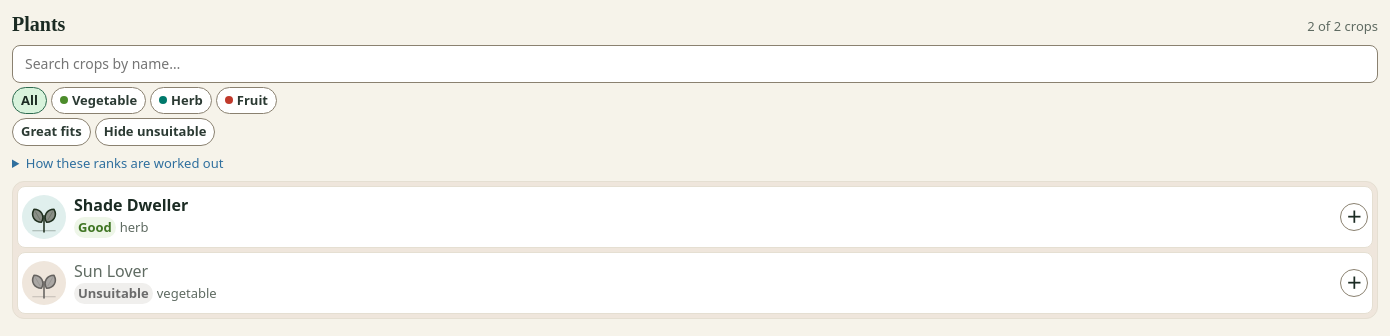
Test: PlantPalette › hides unsuitable crops once the toggle is checked, and shows them again once unchecked
Check: the text "Sun Lover" is shown, box [74,260,148,282]
Click the checkbox labelled "Hide unsuitable": (155, 132) [95,118,215,146]
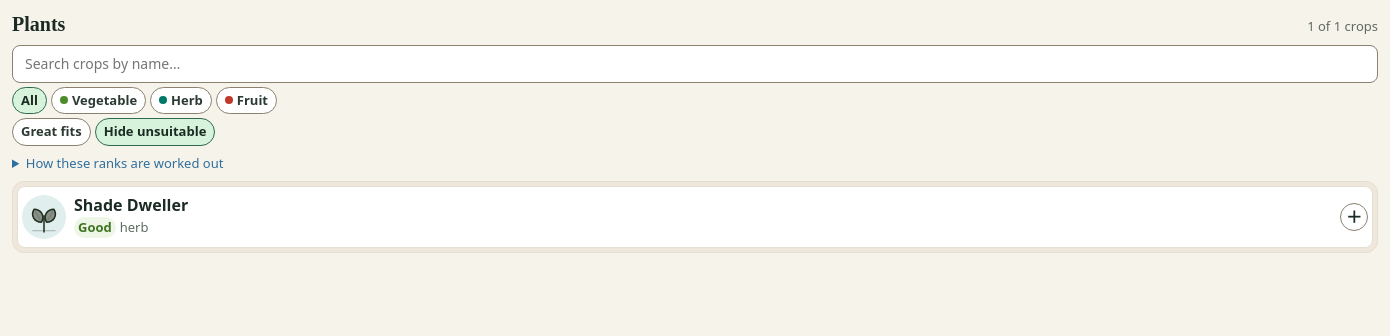
Check: the text "Shade Dweller" is shown, box [74,196,188,215]
Check: the button "Sun Lover" is gone
Click the checkbox labelled "Hide unsuitable": (155, 132) [95,118,215,146]
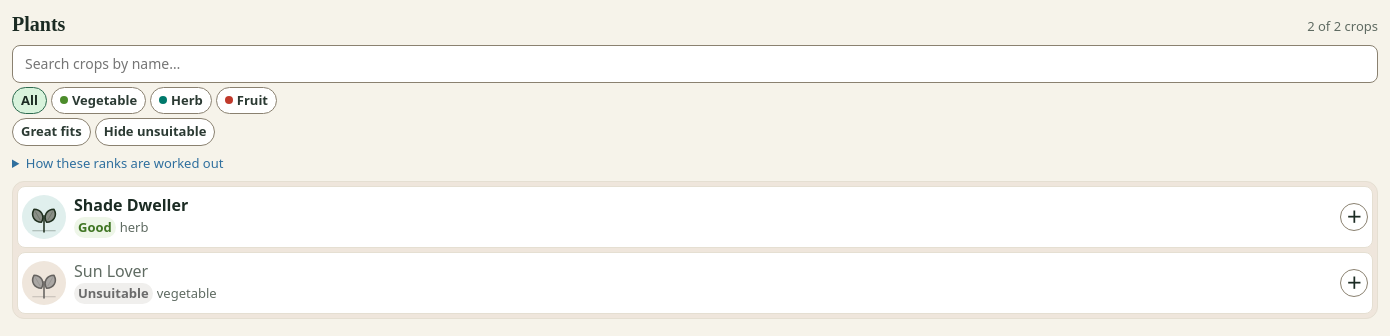
Check: the text "Sun Lover" is shown, box [74,260,148,282]
